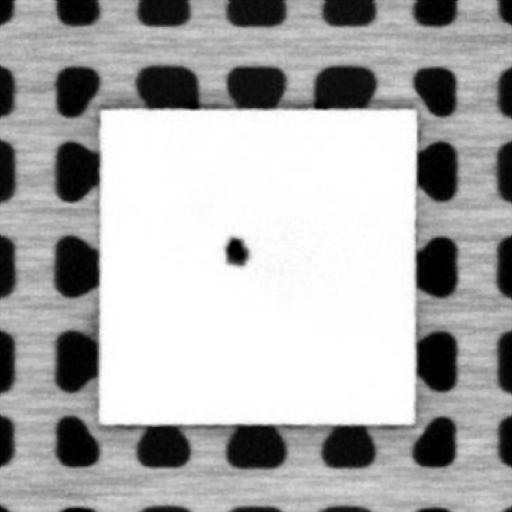DIE_INK: (221, 232, 249, 266)
